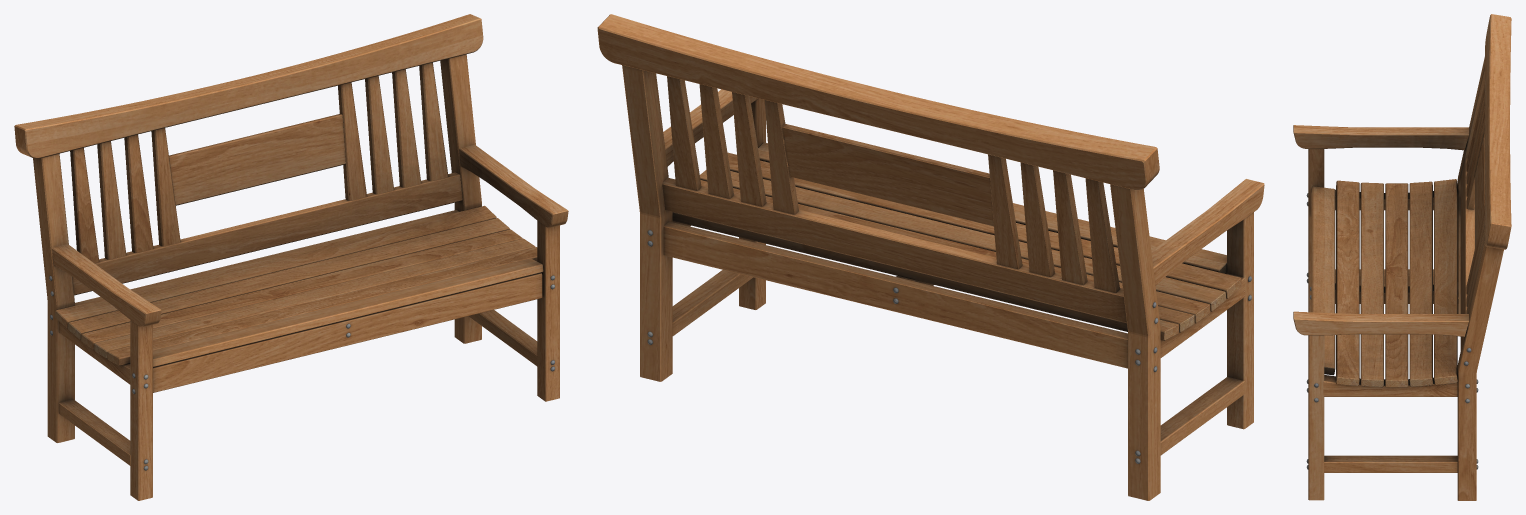
Rendered from woodbench.obj.
3 views of the same model, side by side, from view 1: azimuth 30°, elevation 25°; view 2: azimuth 150°, elevation 25°; view 3: azimuth 270°, elevation 25° (orthographic). The views are drawn at different scales.
Visible parts, largest first — view 1: Bench; view 2: Bench; view 3: Bench.
Part boxes in pixels (left/top/right/bottom): Bench: left=14, top=14, right=568, bottom=500; Bench: left=597, top=14, right=1264, bottom=500; Bench: left=1293, top=14, right=1511, bottom=500.
Bounding box in the file's own units: 261 × 166 × 115.
1 material, 1 textured.
